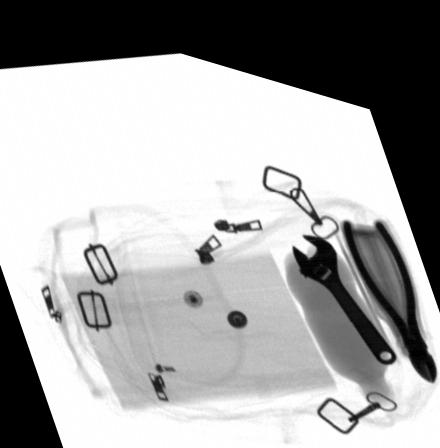Pliers: (341, 196, 438, 360)
Wrench: (291, 216, 398, 343)
